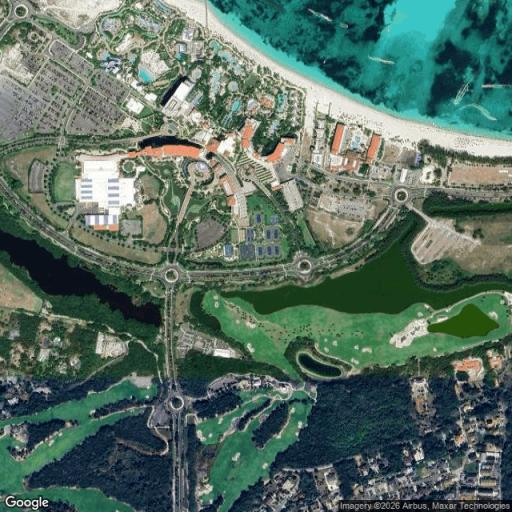ship: (455, 102, 496, 120), (453, 80, 472, 104), (308, 8, 331, 22), (368, 56, 395, 64), (481, 84, 511, 88)
